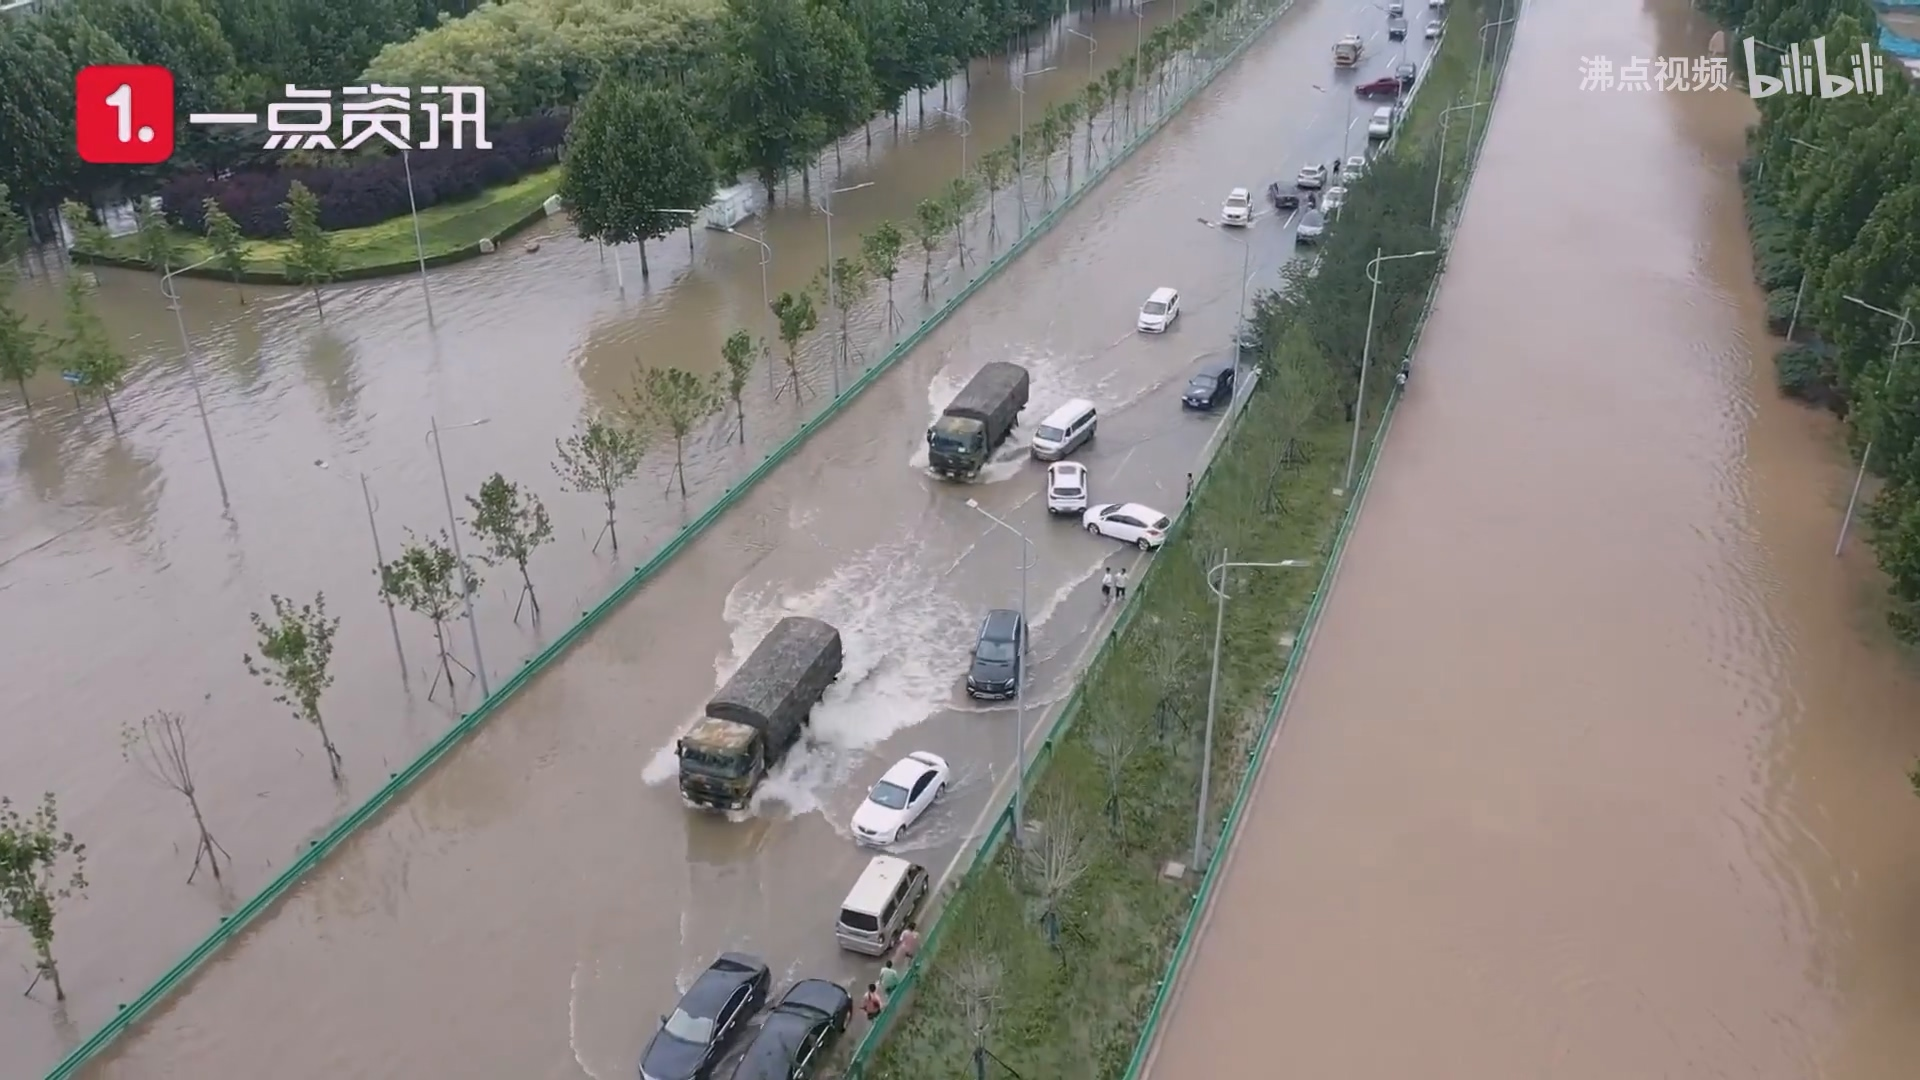puddle: (44, 247, 982, 1080), (1352, 320, 1913, 1080)
